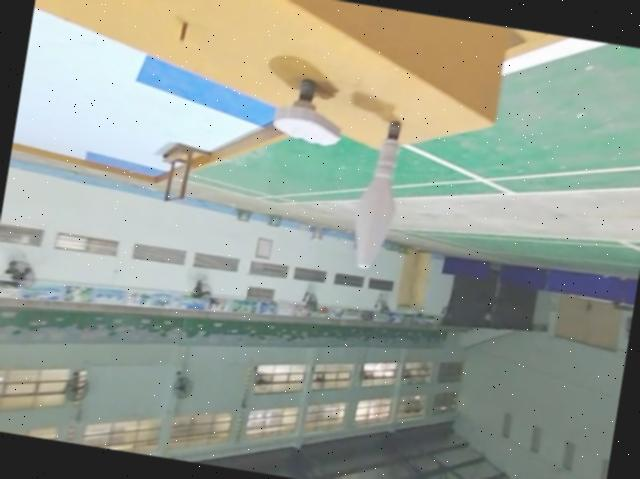Hand: (272, 75, 349, 152)
Sph: (342, 113, 409, 274)
